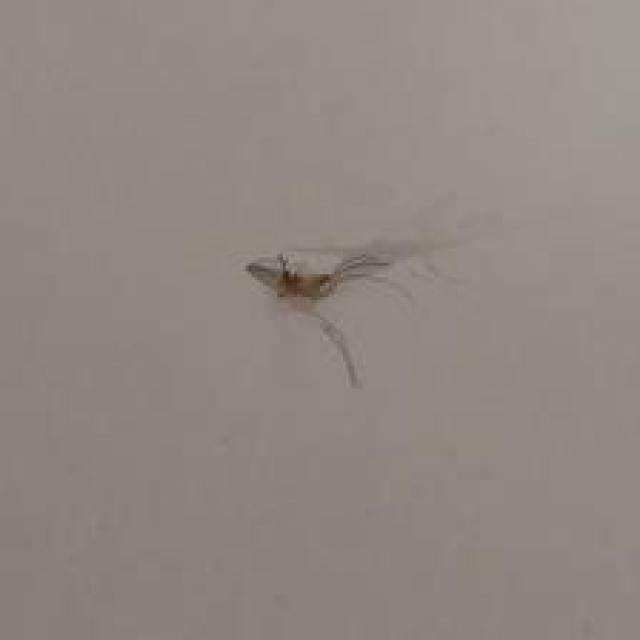Culex: (245, 245, 404, 388)
